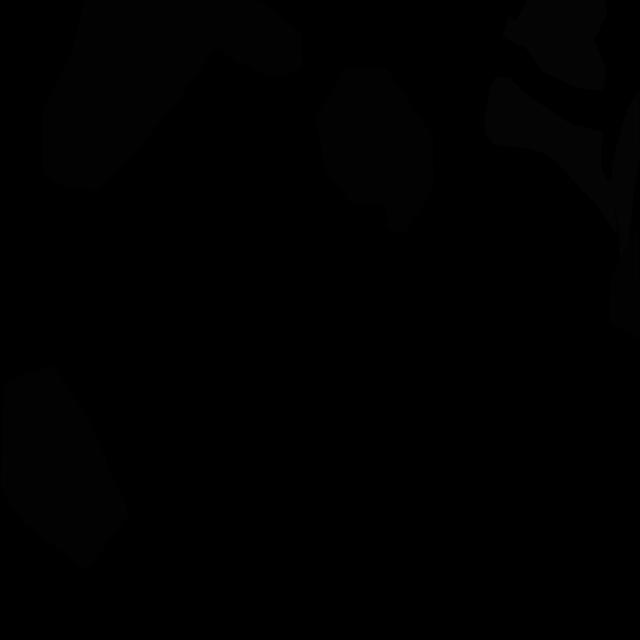cardboard: (42, 0, 303, 191), (0, 364, 129, 571), (316, 67, 434, 234), (609, 230, 640, 340)
soft_plastic: (484, 76, 618, 232), (502, 0, 607, 90), (612, 89, 640, 257)
